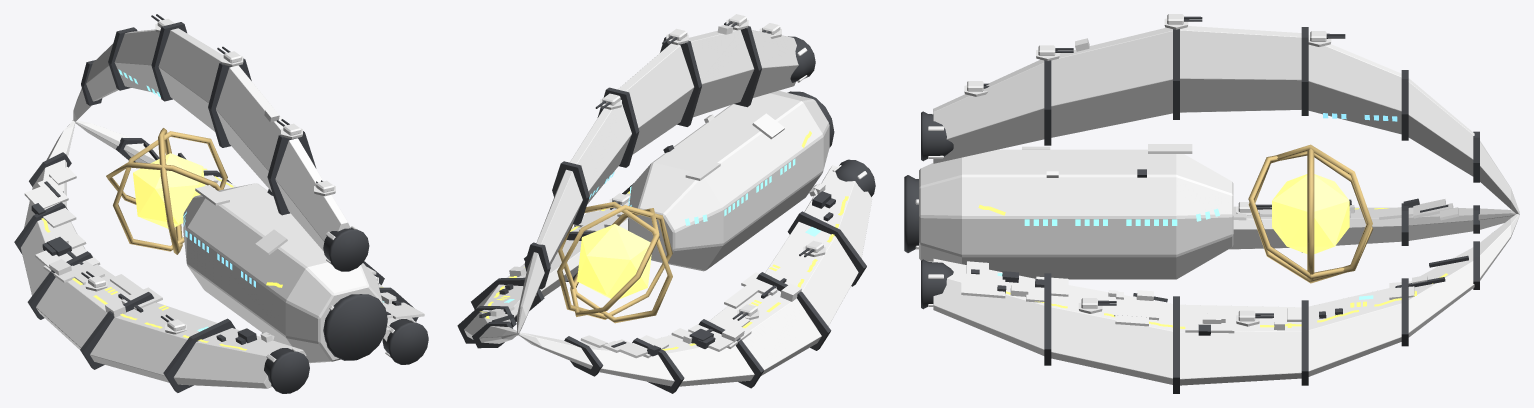
The model's file is porog.glb.
3 views of the same model, side by side, from view 1: azimuth 30°, elevation 25°; view 2: azimuth 150°, elevation 25°; view 3: azimuth 270°, elevation 25° (orthographic). The views are drawn at different scales.
Visible parts, largest first — view 1: Хребет, Клешня.002, Клешня, Накладные_плиты, Кожух_дюзы.003, Ядро_Архонта, Кожух_дюзы.002, Кожух_дюзы.001, Кожух_дюзы, Кольцо_ядра, Клешня.001, Механика (+13 smaller); view 2: Хребет, Клешня.002, Клешня, Накладные_плиты, Ядро_Архонта, Клешня.001, Кольцо_ядра.002, Кольцо_ядра, Механика, Кольцо_ядра.001, Сустав.010, Сустав.001 (+15 smaller); view 3: Клешня, Хребет, Клешня.001, Накладные_плиты, Клешня.002, Ядро_Архонта, Кольцо_ядра.002, Кольцо_ядра.001, Механика, Кожух_дюзы.003, Кожух_дюзы, Кольцо_ядра (+11 smaller).
Boxes of the visible parts, left/top/right/bottom form: Хребет: left=183, top=183, right=382, bottom=363; Клешня.002: left=21, top=121, right=306, bottom=388; Клешня: left=73, top=28, right=350, bottom=251; Накладные_плиты: left=24, top=108, right=424, bottom=342; Кожух_дюзы.003: left=323, top=294, right=387, bottom=360; Ядро_Архонта: left=133, top=153, right=205, bottom=228; Кожух_дюзы.002: left=264, top=348, right=309, bottom=393; Кожух_дюзы.001: left=382, top=319, right=428, bottom=364; Кожух_дюзы: left=323, top=227, right=369, bottom=271; Кольцо_ядра: left=113, top=131, right=227, bottom=251; Клешня.001: left=72, top=120, right=413, bottom=341; Механика: left=31, top=142, right=401, bottom=344; Хребет: left=628, top=91, right=829, bottom=271; Клешня.002: left=516, top=165, right=872, bottom=386; Клешня: left=517, top=29, right=798, bottom=335; Накладные_плиты: left=481, top=25, right=825, bottom=358; Ядро_Архонта: left=577, top=224, right=651, bottom=299; Клешня.001: left=464, top=193, right=630, bottom=343; Кольцо_ядра.002: left=557, top=205, right=672, bottom=319; Кольцо_ядра: left=558, top=201, right=672, bottom=323; Механика: left=479, top=145, right=835, bottom=356; Кольцо_ядра.001: left=570, top=208, right=659, bottom=316; Сустав.010: left=787, top=211, right=866, bottom=286; Сустав.001: left=660, top=37, right=701, bottom=126; Клешня: left=933, top=26, right=1519, bottom=213; Хребет: left=919, top=149, right=1233, bottom=279; Клешня.001: left=933, top=214, right=1519, bottom=385; Накладные_плиты: left=961, top=38, right=1458, bottom=333; Клешня.002: left=1229, top=206, right=1519, bottom=249; Ядро_Архонта: left=1272, top=174, right=1349, bottom=253; Кольцо_ядра.002: left=1248, top=144, right=1372, bottom=283; Кольцо_ядра.001: left=1248, top=152, right=1372, bottom=279; Механика: left=971, top=169, right=1468, bottom=335; Кожух_дюзы.003: left=904, top=175, right=918, bottom=252; Кожух_дюзы: left=921, top=111, right=953, bottom=161; Кольцо_ядра: left=1307, top=148, right=1314, bottom=281.
Size of the model in its own units: 1.32 by 1.17 by 2.15.
